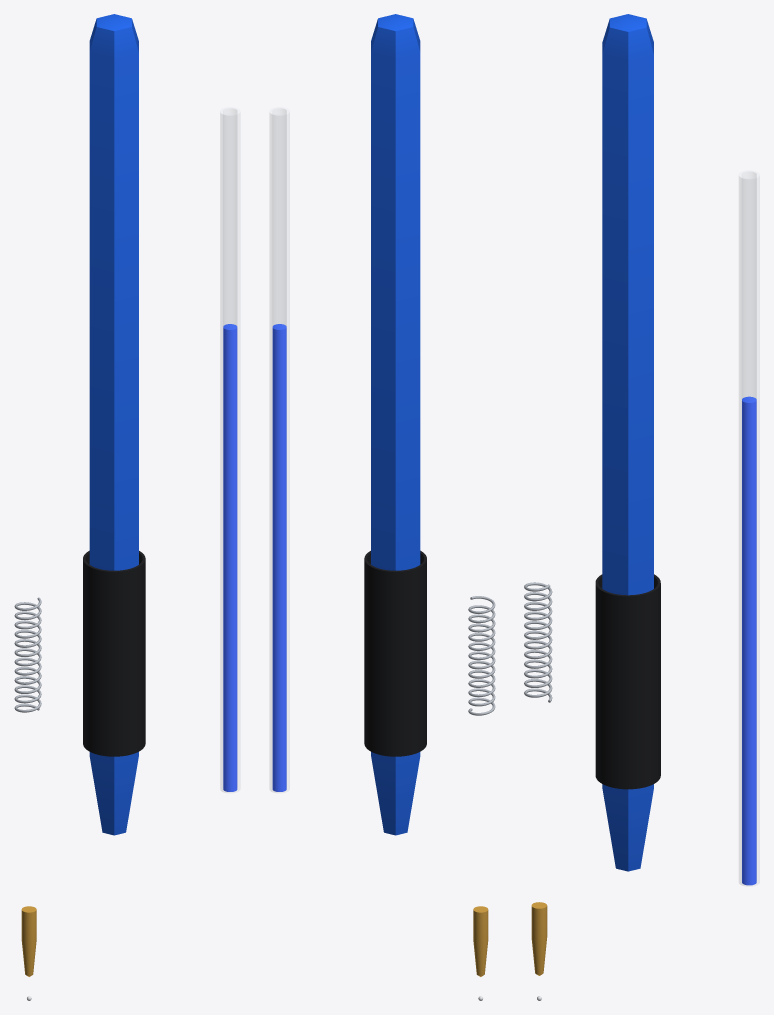
The picture shows the model from 3 angles, left to right: view 1: azimuth 30°, elevation 25°; view 2: azimuth 150°, elevation 25°; view 3: azimuth 330°, elevation 25°; orthographic projection. The views are drawn at different scales.
Parts seen in each view (by area): view 1: govde__m0, murekkep-haznesi__m0, govde__m1, murekkep-haznesi__m1, yay__m0, uc-yuvasi__m0; view 2: govde__m0, murekkep-haznesi__m0, govde__m1, murekkep-haznesi__m1, yay__m0, uc-yuvasi__m0; view 3: govde__m0, murekkep-haznesi__m0, govde__m1, murekkep-haznesi__m1, yay__m0, uc-yuvasi__m0.
Part boxes in pixels (x1,y1,x2,y2): govde__m0: (89, 14, 138, 835); murekkep-haznesi__m0: (220, 107, 239, 792); govde__m1: (83, 550, 145, 756); murekkep-haznesi__m1: (223, 324, 237, 791); yay__m0: (14, 597, 41, 712); uc-yuvasi__m0: (21, 906, 36, 976); govde__m0: (371, 14, 420, 835); murekkep-haznesi__m0: (270, 107, 289, 792); govde__m1: (364, 550, 426, 756); murekkep-haznesi__m1: (272, 324, 286, 791); yay__m0: (468, 596, 495, 715); uc-yuvasi__m0: (473, 906, 488, 976); govde__m0: (602, 14, 653, 871); murekkep-haznesi__m0: (739, 171, 759, 885); govde__m1: (595, 574, 660, 789); murekkep-haznesi__m1: (742, 396, 756, 885); yay__m0: (524, 582, 552, 702); uc-yuvasi__m0: (531, 902, 547, 975).
Size of the model in its own units: 3.78 by 15.59 by 0.92.
